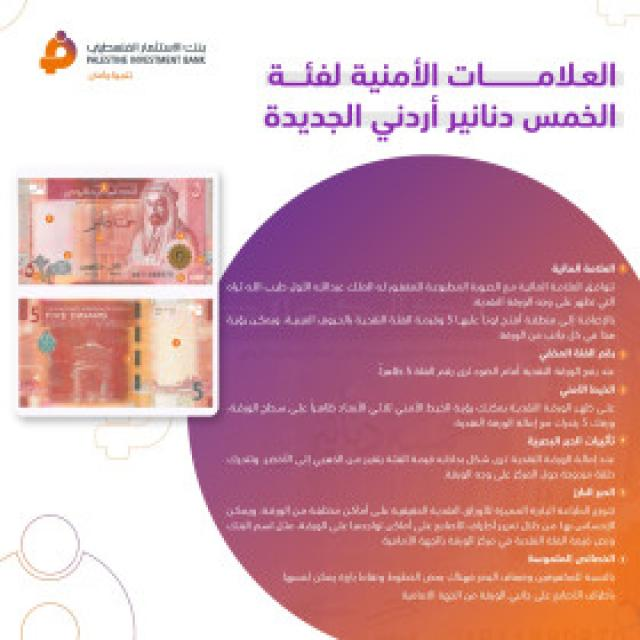5-dinar: (15, 297, 212, 410), (16, 176, 214, 282)
